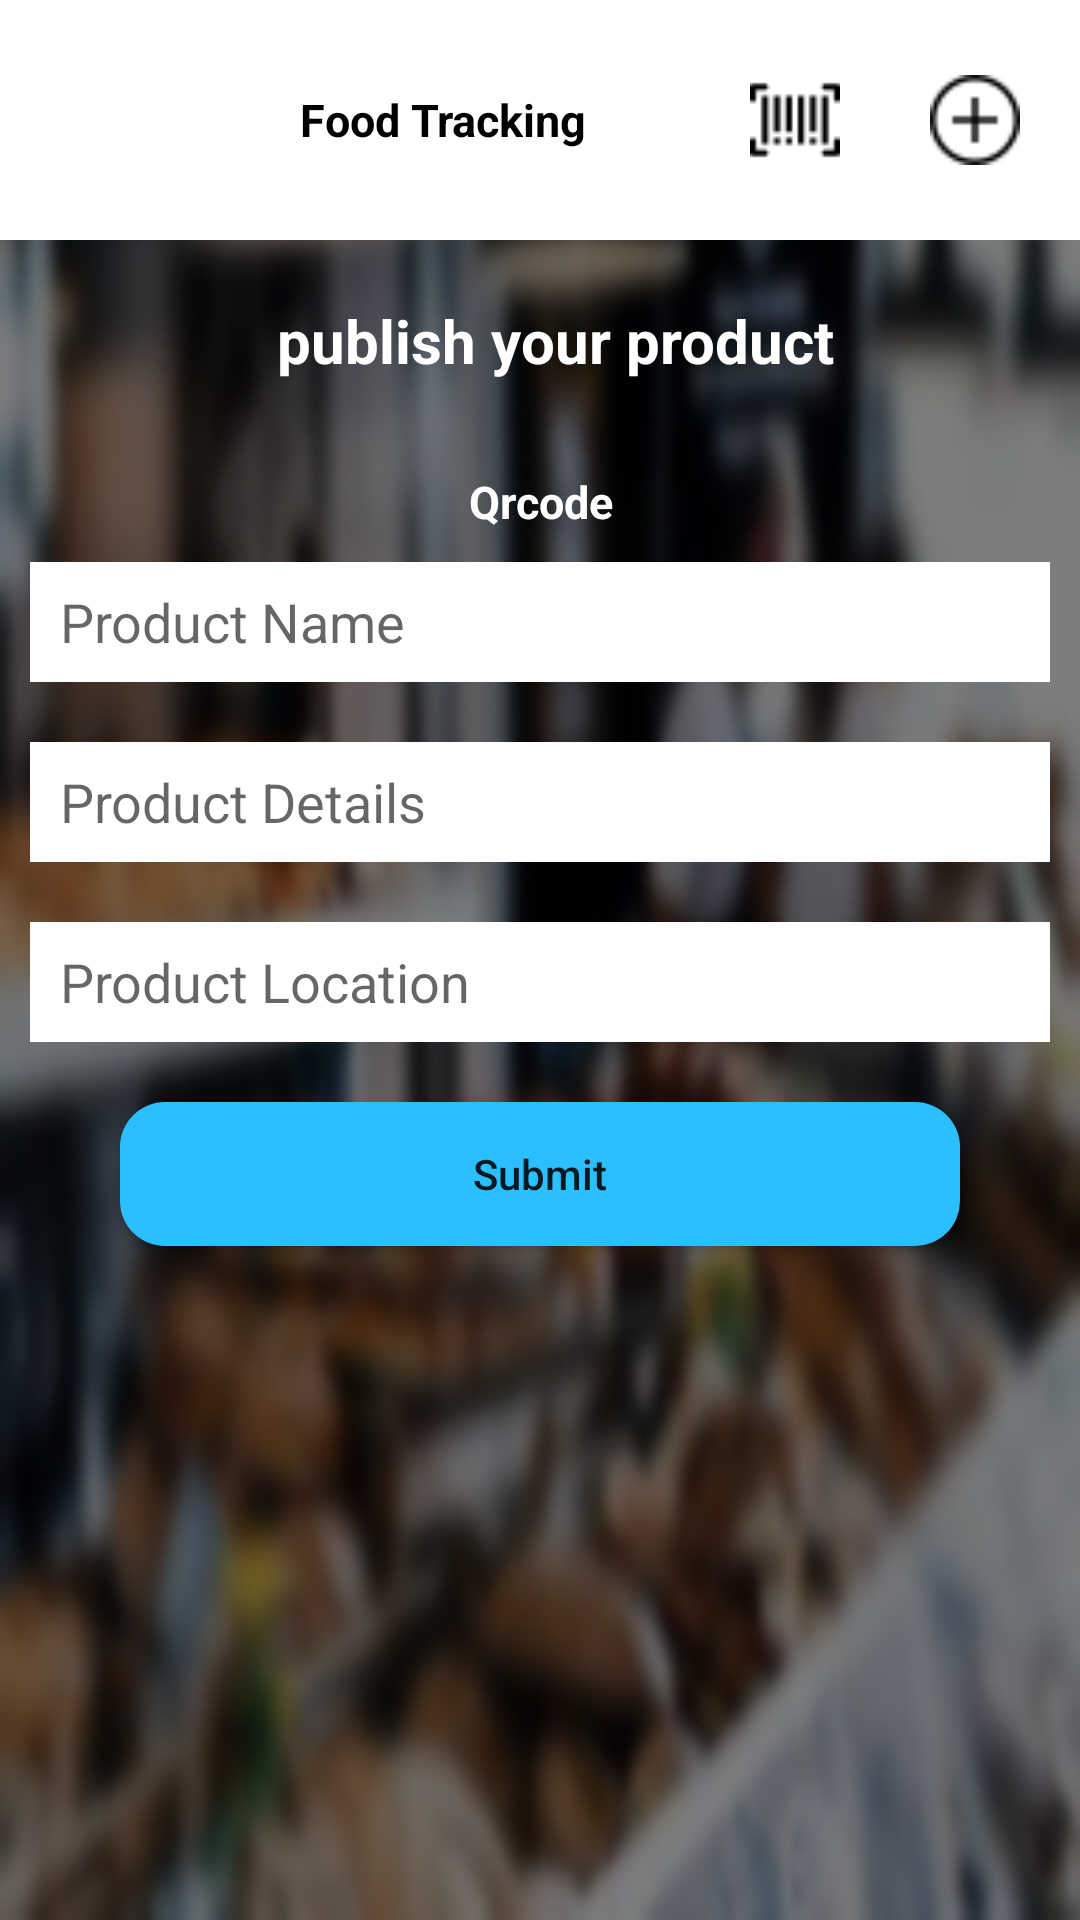

Icon bounding boxes for this 1080px×1920px phone screenshot, format (x1, y1, x2, y2):
add: (930, 75, 1020, 165)
scan: (750, 82, 840, 158)
